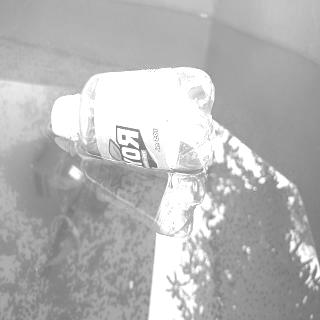bottle: (51, 65, 216, 174)
